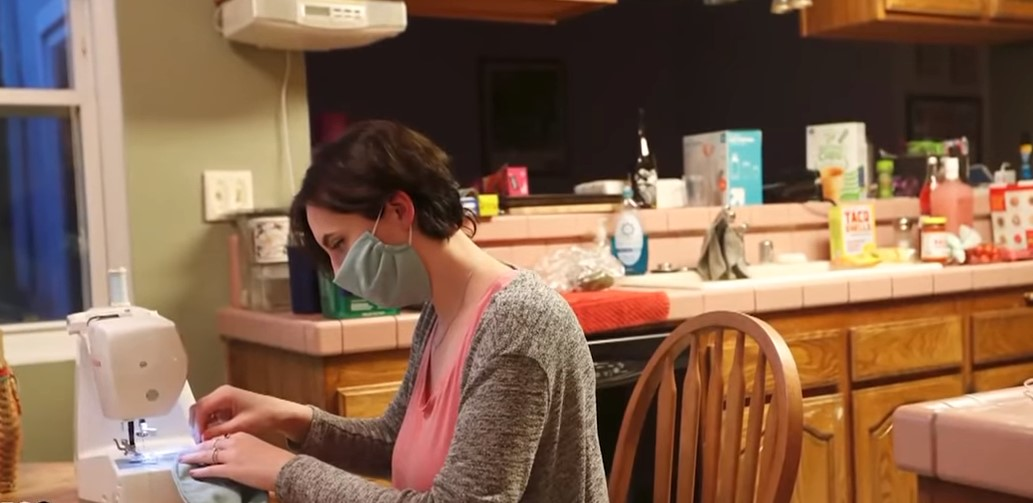face_with_mask: (298, 132, 439, 312)
